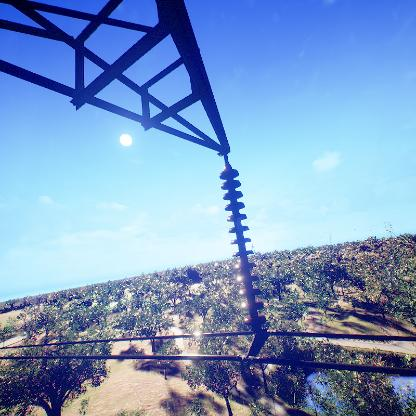insulator: (217, 166, 270, 329)
